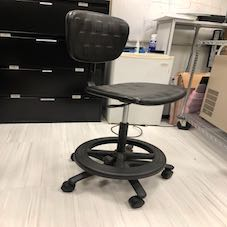chair: (50, 10, 189, 205)
